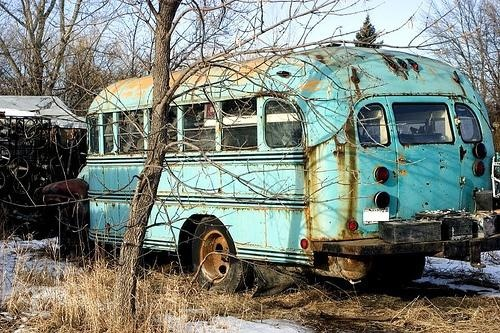bus: (59, 41, 500, 301)
